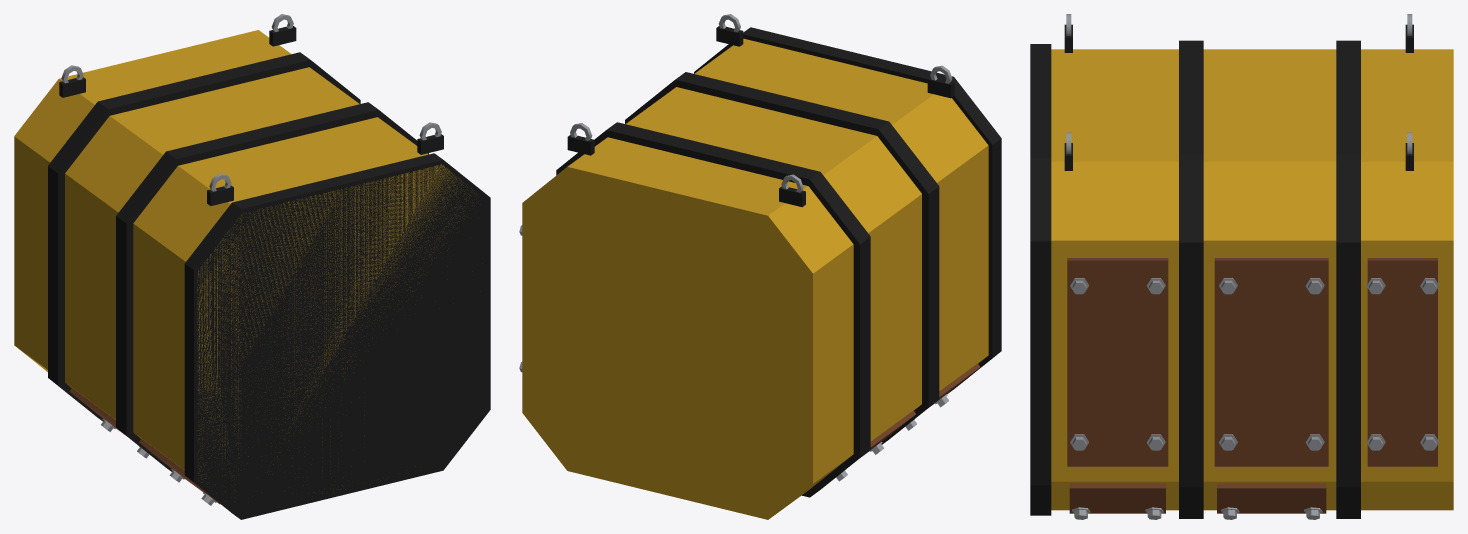
The model's file is kt1_housing.obj.
3 views of the same model, side by side, from view 1: azimuth 30°, elevation 25°; view 2: azimuth 150°, elevation 25°; view 3: azimuth 270°, elevation 25° (orthographic). The views are drawn at different scales.
Visible parts, largest first — view 1: kt1_housing; view 2: kt1_housing; view 3: kt1_housing.
Boxes of the visible parts, <box> form: kt1_housing: <box>14,14,490,519</box>; kt1_housing: <box>519,14,1001,519</box>; kt1_housing: <box>1030,14,1453,519</box>.
Size of the model in its own units: 2.33 by 2.45 by 2.42.
